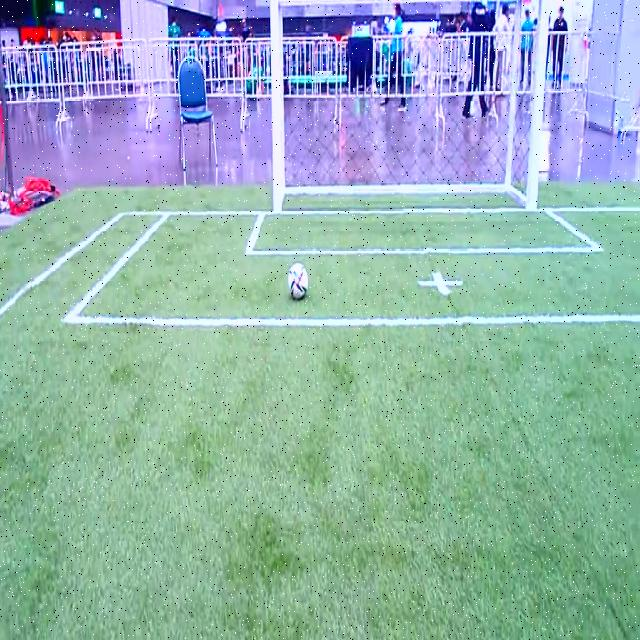ball: (288, 262, 308, 300)
